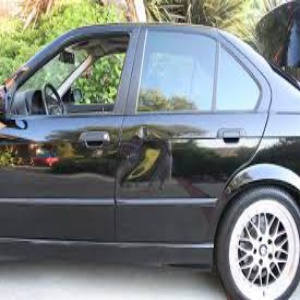door: (110, 125, 207, 192)
